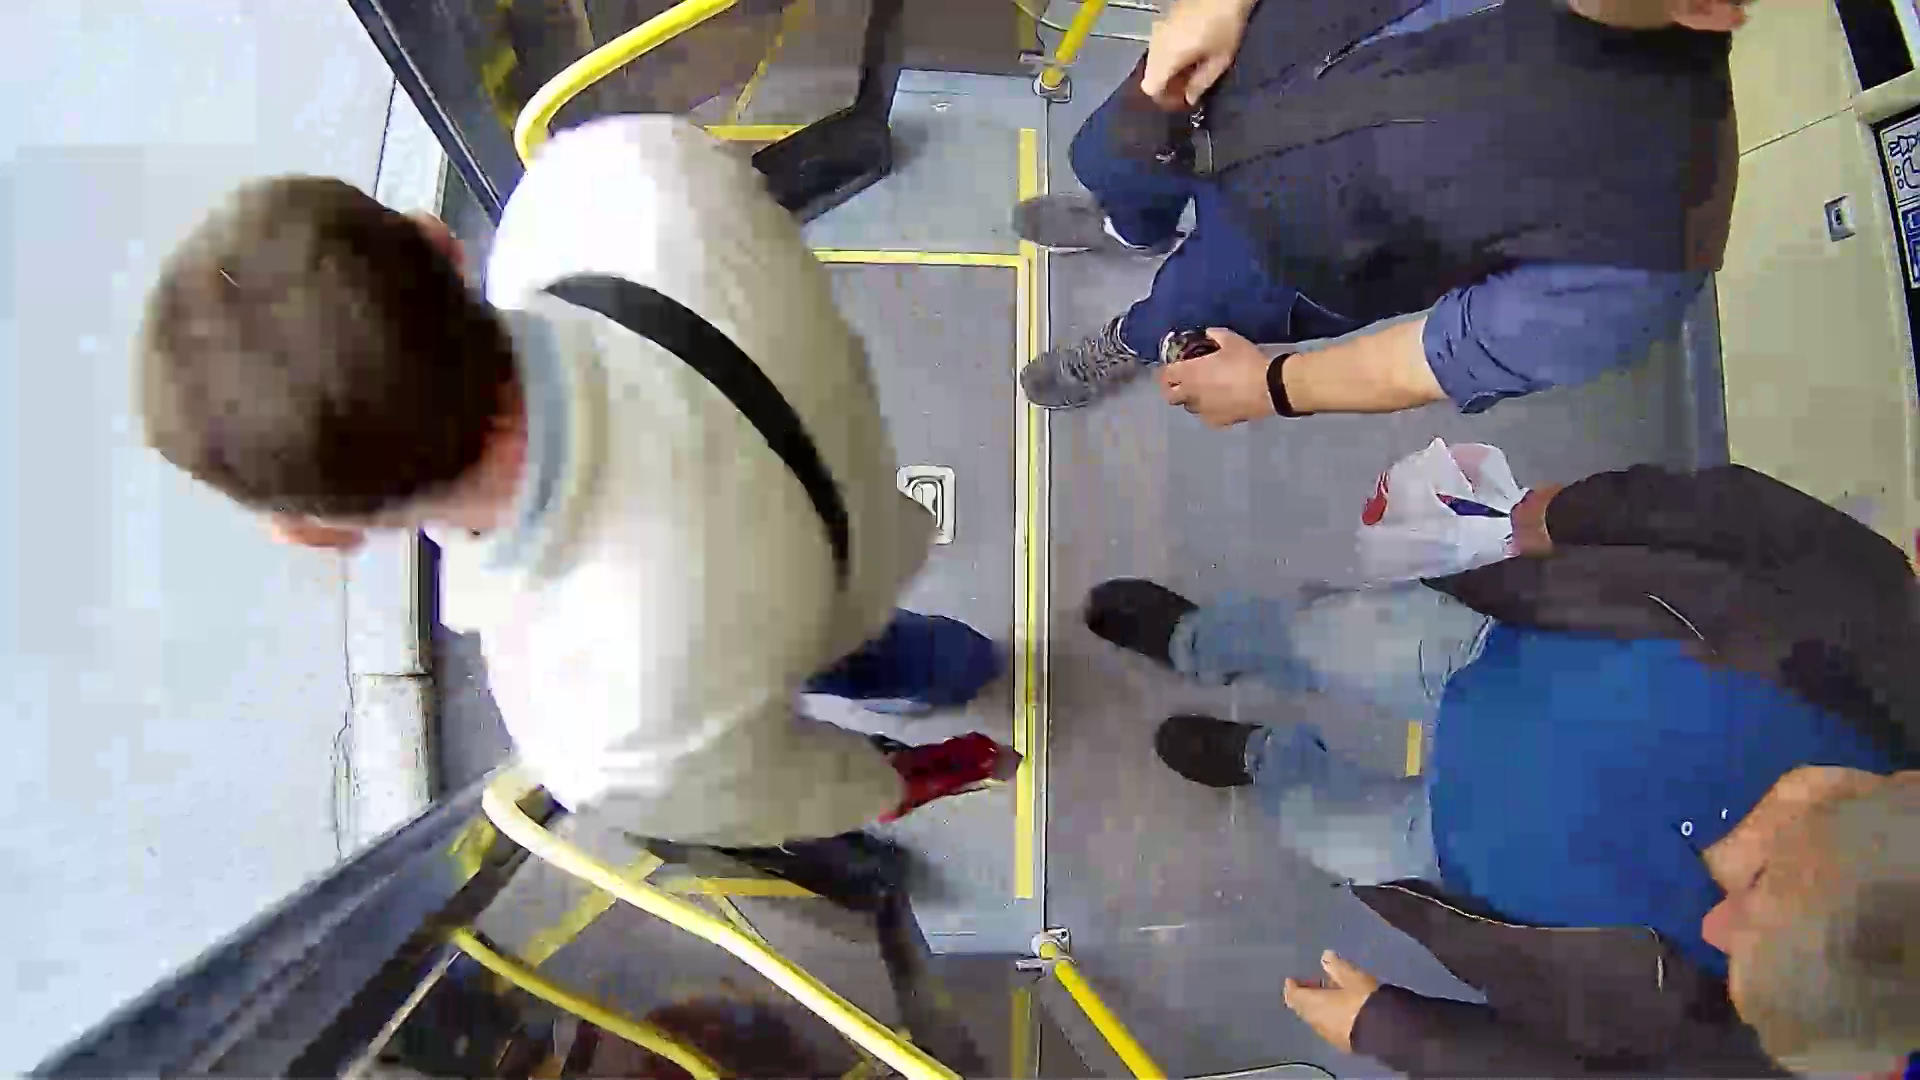person: (163, 115, 1018, 759), (1132, 390, 1874, 1044), (1014, 33, 1874, 449)
